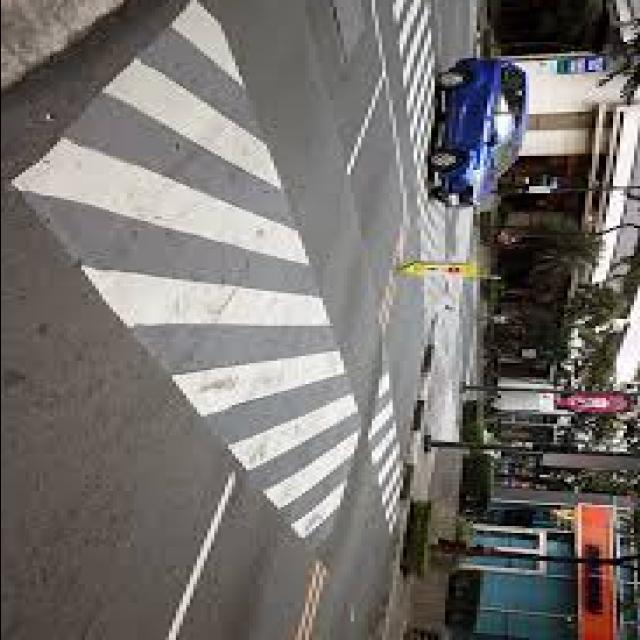speedbreaker: (68, 9, 400, 556)
